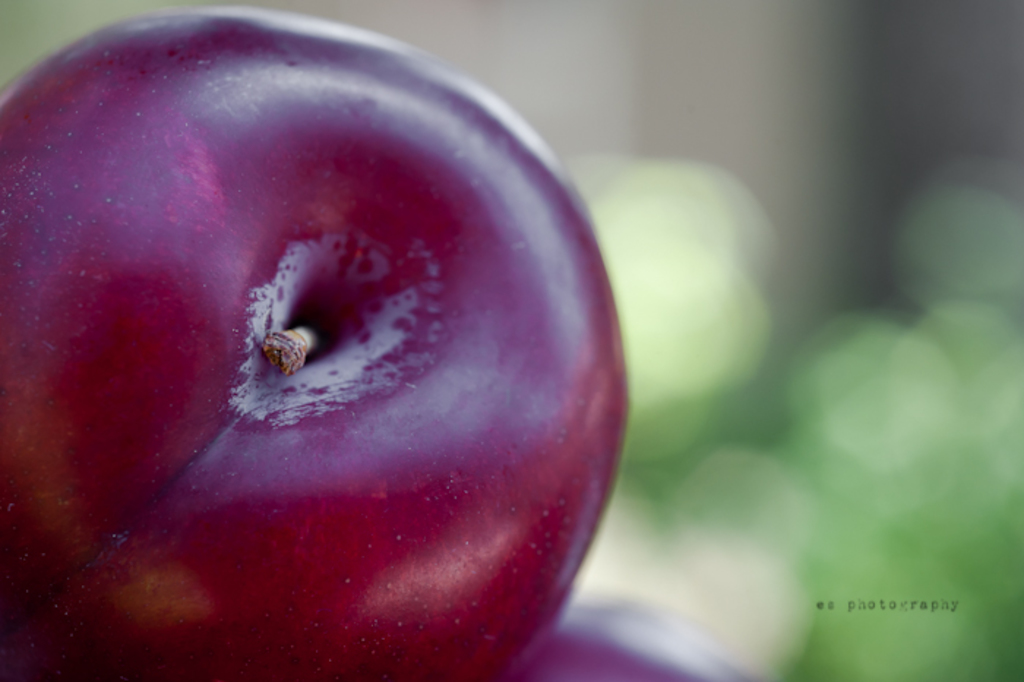Apple: (0, 20, 630, 680)
